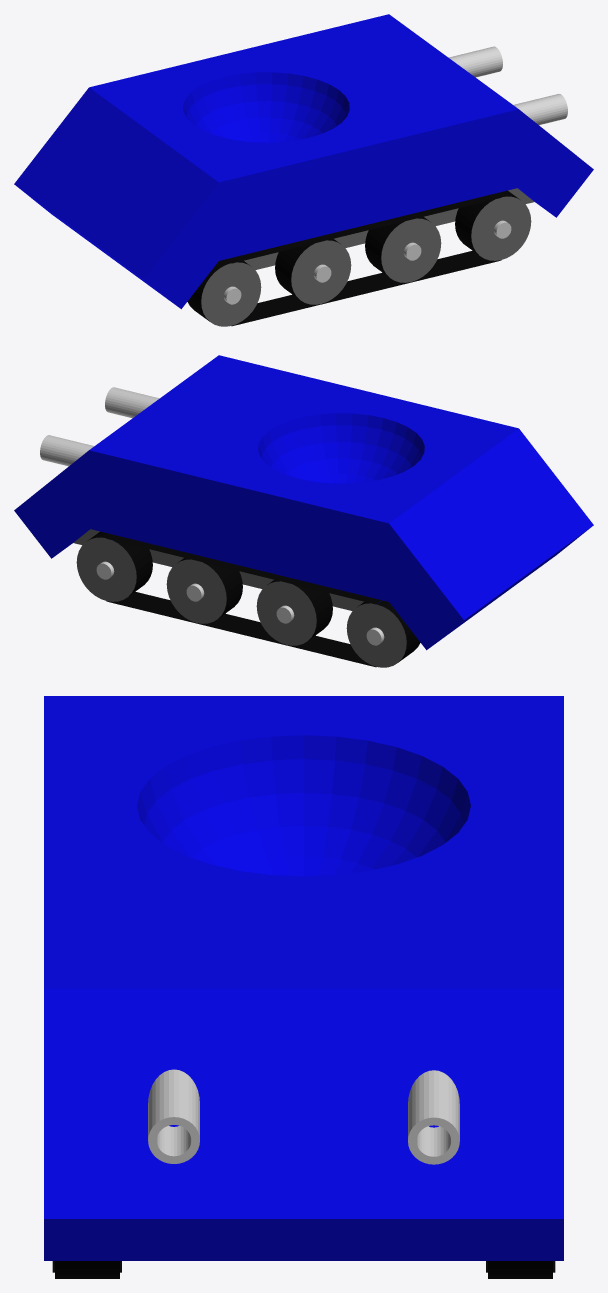
Rendered from Body_Blue.fbx.
3 views of the same model, one above another, from view 1: azimuth 30°, elevation 25°; view 2: azimuth 150°, elevation 25°; view 3: azimuth 270°, elevation 25° (orthographic). The views are drawn at different scales.
Parts seen in each view (by area): view 1: Cube; view 2: Cube; view 3: Cube.
Boxes of the visible parts, x1,y1,x2,y2 form: Cube: (14,14,593,326); Cube: (14,355,593,667); Cube: (44,696,563,1278).
Bounding box in the file's own units: 600 × 190 × 300.
